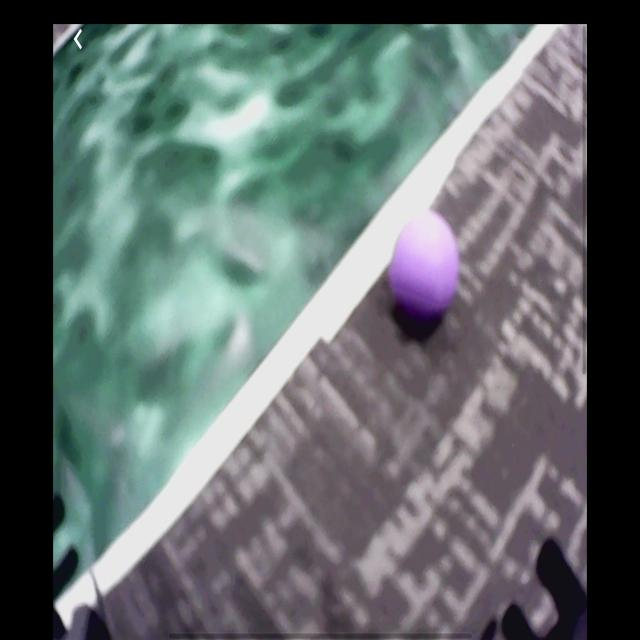ball: (391, 212, 459, 325)
